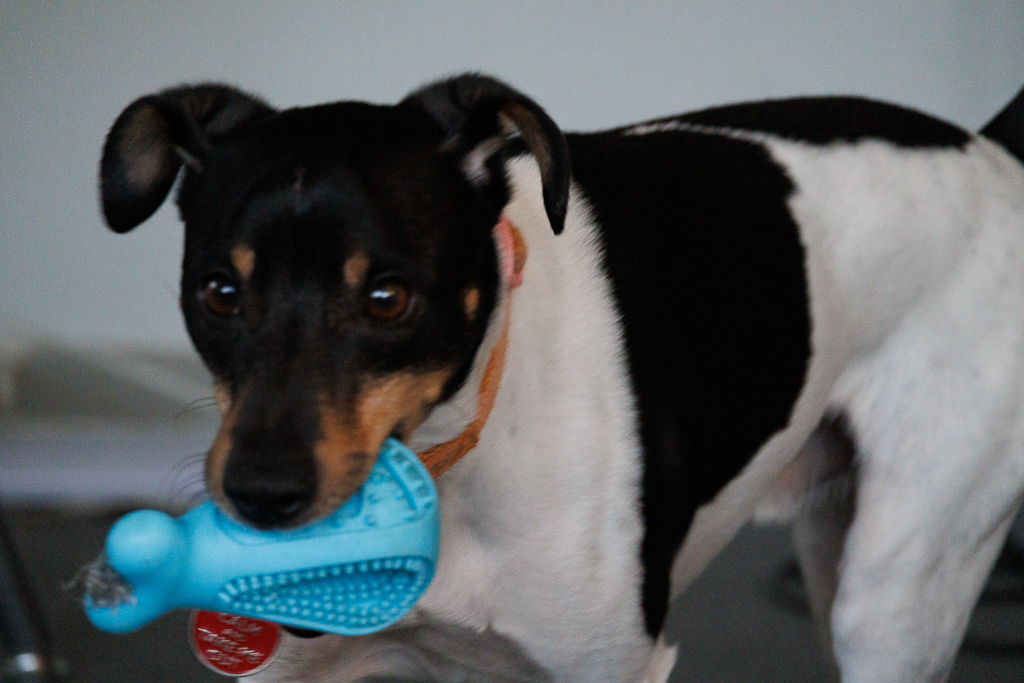Dog: (86, 54, 1023, 682)
